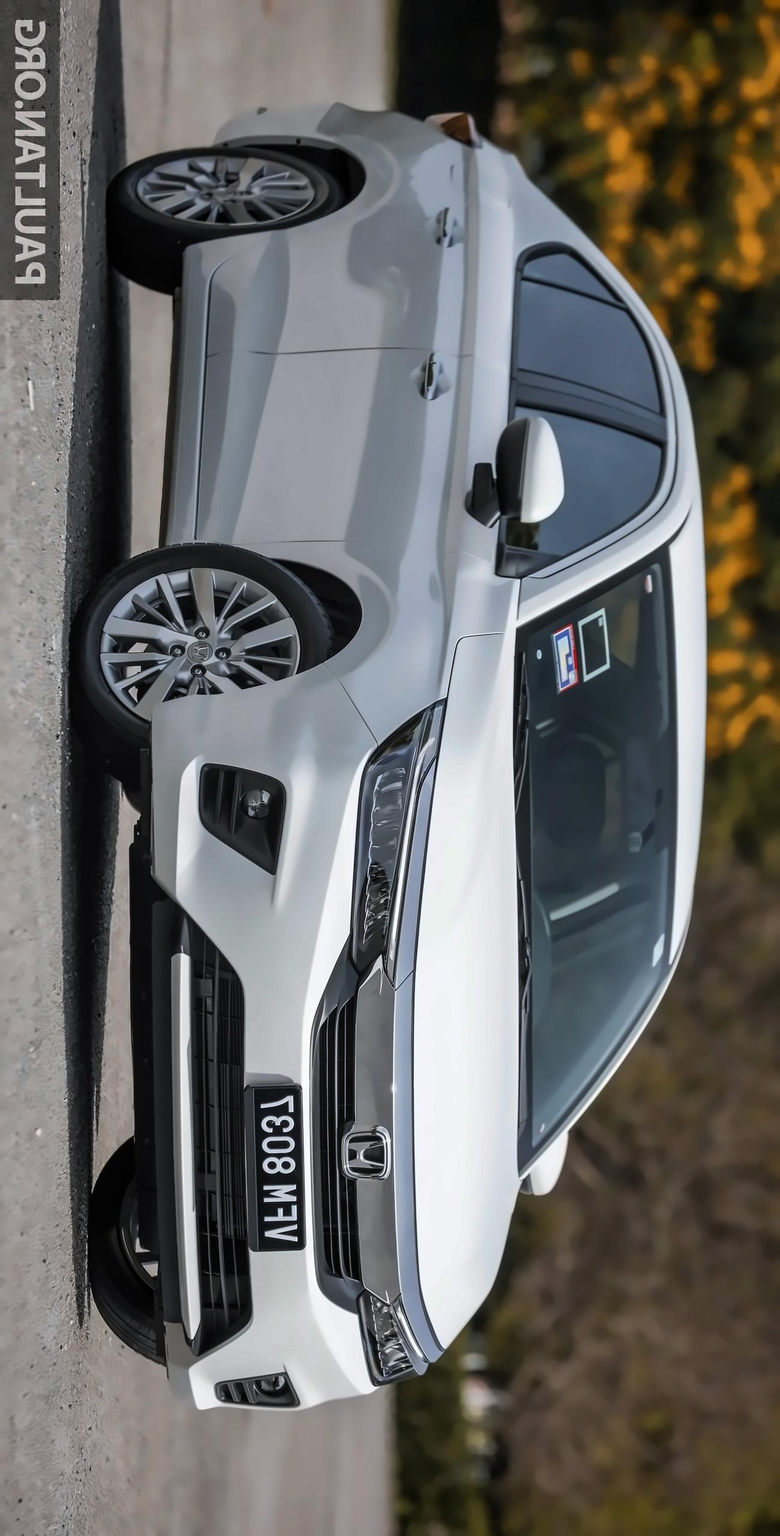Car hood: (395, 630, 543, 1343)
Driver-s door - -F-R-: (159, 327, 694, 618)
Fender - -F-R-: (123, 486, 515, 746)
Fender - -R-R-: (195, 102, 582, 242)
Front bumper: (108, 672, 398, 1431)
Headlight - -L-: (351, 1263, 432, 1391)
Headlight - -R-: (291, 687, 465, 1039)
Passenger-s door - -R-R-: (141, 195, 718, 447)
Side bumper - -R-: (138, 219, 283, 559)
Side mirror - -R-: (441, 420, 584, 581)
